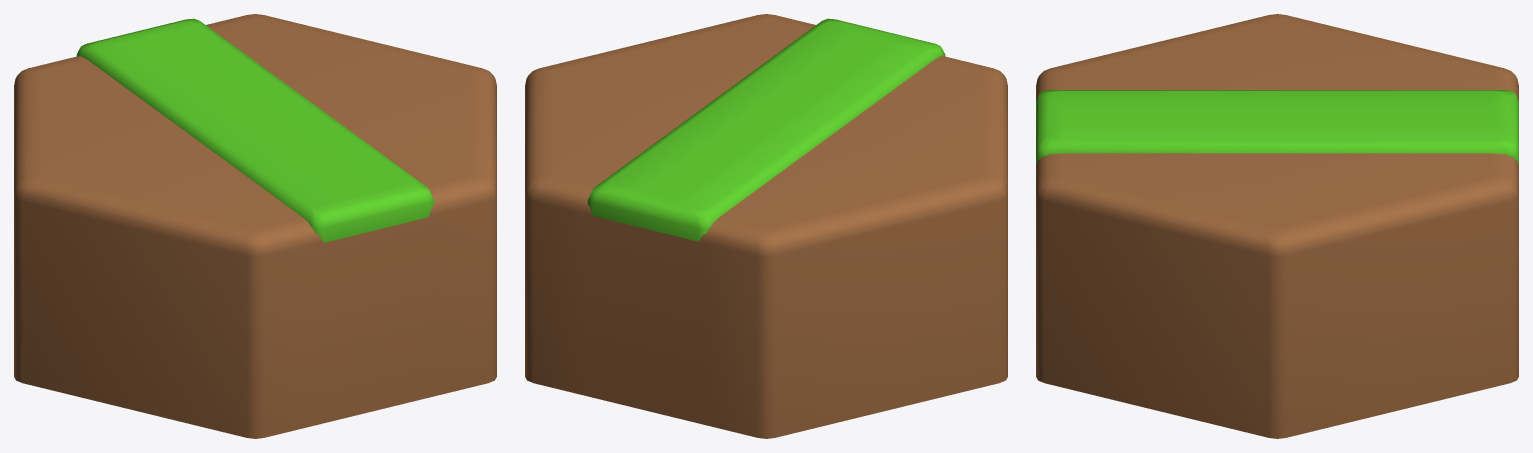
The model's file is Tile_Sand_Path_Straight.fbx.
3 renders of one model, left to right at view 1: azimuth 30°, elevation 25°; view 2: azimuth 150°, elevation 25°; view 3: azimuth 270°, elevation 25°, orthographic.
Visible parts, largest first — view 1: Tile_Sand_Path_Straight; view 2: Tile_Sand_Path_Straight; view 3: Tile_Sand_Path_Straight.
Part boxes in pixels (x1,y1,x2,y2): Tile_Sand_Path_Straight: [14, 14, 496, 438]; Tile_Sand_Path_Straight: [525, 14, 1007, 438]; Tile_Sand_Path_Straight: [1036, 14, 1518, 438].
Size of the model in its own units: 9302 by 3830 by 8129.
